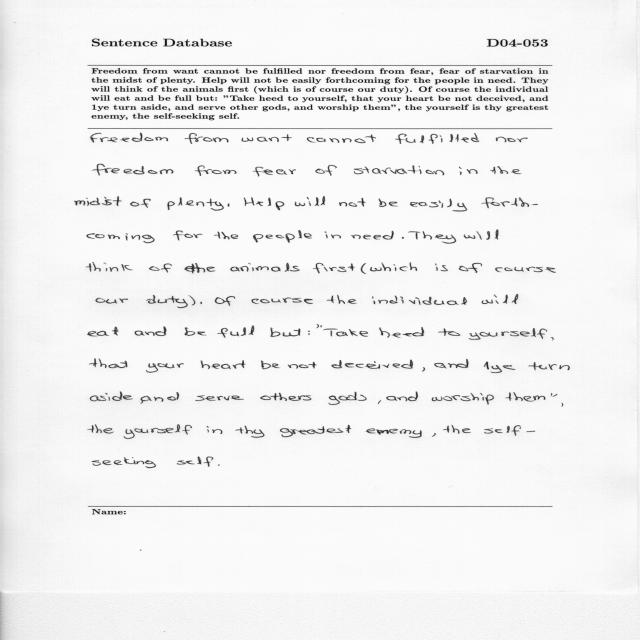word: (93, 164, 174, 176), (124, 425, 192, 439), (469, 328, 547, 340), (354, 166, 444, 176), (372, 296, 467, 305), (280, 425, 351, 437), (167, 197, 224, 211), (91, 133, 168, 143), (253, 230, 312, 243), (410, 199, 467, 212), (332, 360, 413, 369), (92, 457, 156, 468), (432, 393, 494, 404), (87, 233, 155, 243), (420, 133, 479, 144), (230, 263, 300, 272), (408, 231, 456, 244), (307, 135, 376, 144), (482, 198, 538, 209), (365, 428, 422, 438), (485, 425, 536, 436), (146, 295, 188, 308), (244, 198, 284, 211), (379, 327, 424, 338), (329, 392, 367, 405), (185, 133, 229, 144), (218, 325, 255, 338), (75, 196, 122, 206), (86, 262, 133, 272), (370, 263, 417, 272), (313, 263, 355, 273), (505, 392, 546, 402), (241, 134, 292, 142), (261, 393, 312, 401), (201, 360, 246, 369), (351, 231, 394, 240), (90, 392, 133, 401), (528, 362, 570, 371), (251, 298, 313, 304), (146, 363, 183, 373), (495, 267, 556, 273), (482, 294, 518, 304), (323, 329, 368, 337), (177, 457, 213, 467), (484, 362, 516, 373), (464, 230, 499, 240), (236, 426, 265, 438), (90, 359, 128, 368), (135, 326, 167, 336), (434, 359, 469, 368), (185, 263, 216, 273), (88, 327, 119, 337), (270, 327, 301, 337), (295, 197, 325, 207), (195, 165, 222, 176), (195, 395, 244, 401), (174, 231, 203, 241), (386, 392, 418, 401), (326, 295, 357, 304), (443, 425, 471, 434), (154, 392, 179, 402), (490, 166, 521, 174), (339, 198, 366, 207), (315, 165, 337, 176), (88, 425, 114, 434), (459, 263, 482, 273), (395, 134, 416, 144), (149, 264, 172, 273), (288, 362, 317, 369), (253, 167, 273, 177), (215, 296, 235, 306), (496, 137, 528, 143), (215, 232, 239, 240), (96, 298, 128, 304), (130, 199, 151, 208), (185, 327, 206, 336), (438, 328, 460, 336), (379, 198, 398, 207), (459, 167, 478, 175), (261, 361, 280, 369), (276, 169, 296, 175), (207, 426, 222, 434), (325, 232, 341, 239), (435, 264, 448, 272), (141, 396, 152, 404), (189, 295, 196, 305), (223, 170, 237, 174), (361, 263, 366, 274), (551, 393, 558, 397), (316, 325, 322, 329), (432, 433, 436, 437), (422, 367, 425, 372), (378, 400, 381, 404), (551, 337, 554, 340), (228, 203, 230, 207), (308, 331, 310, 335), (562, 403, 564, 406), (402, 237, 404, 239), (200, 302, 202, 304), (218, 464, 220, 466)
